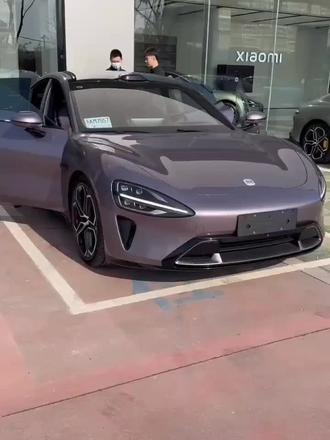su7: (32, 67, 326, 269)
